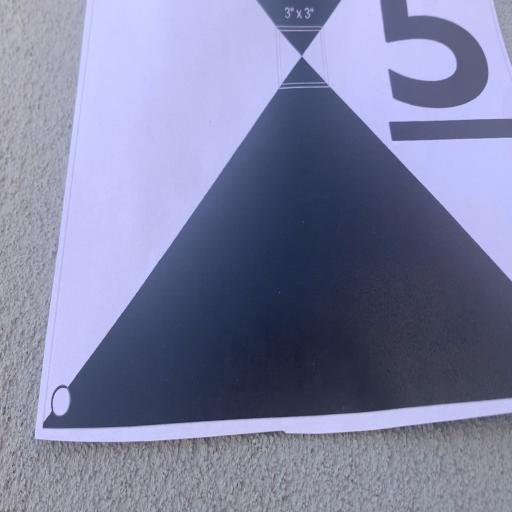target5: (34, 2, 512, 437)
